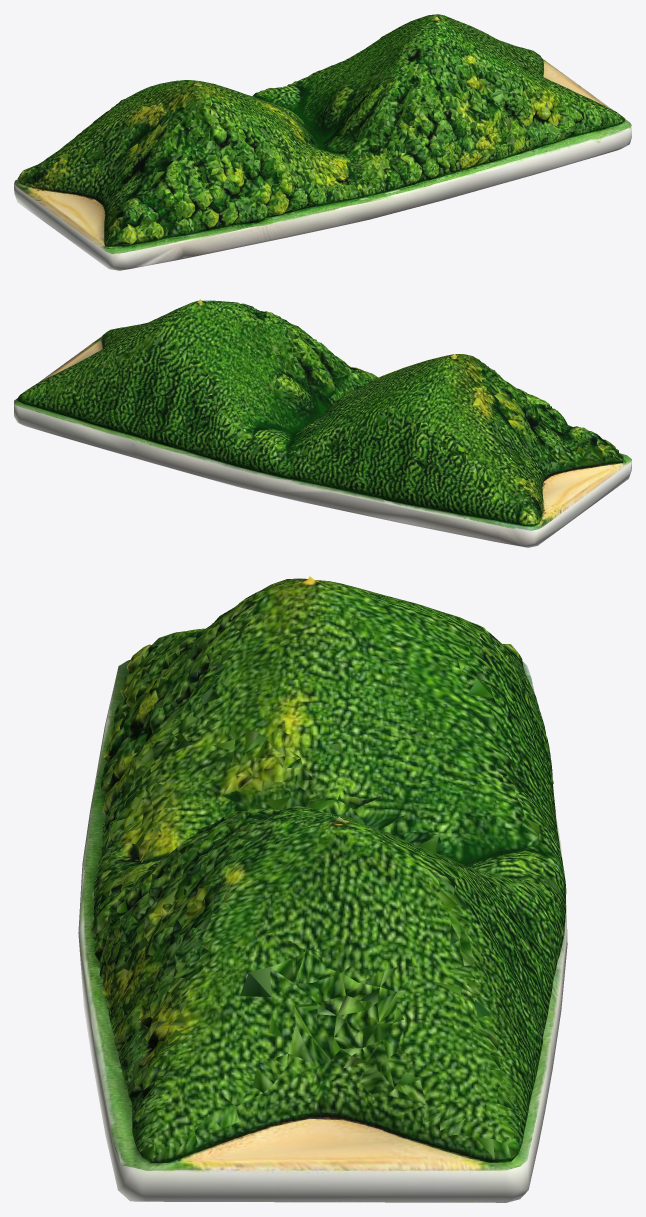
Rendered from island2.glb.
3 renders of one model, top to bottom at view 1: azimuth 30°, elevation 25°; view 2: azimuth 150°, elevation 25°; view 3: azimuth 270°, elevation 25°, orthographic. The views are drawn at different scales.
Parts seen in each view (by area): view 1: island2; view 2: island2; view 3: island2.
Boxes of the visible parts, left/top/right/bottom form: island2: left=14, top=14, right=631, bottom=270; island2: left=14, top=299, right=631, bottom=547; island2: left=78, top=576, right=567, bottom=1202.
Size of the model in its own units: 1 by 0.2255 by 0.4025.
Materials: 1 (1 with a texture image).
